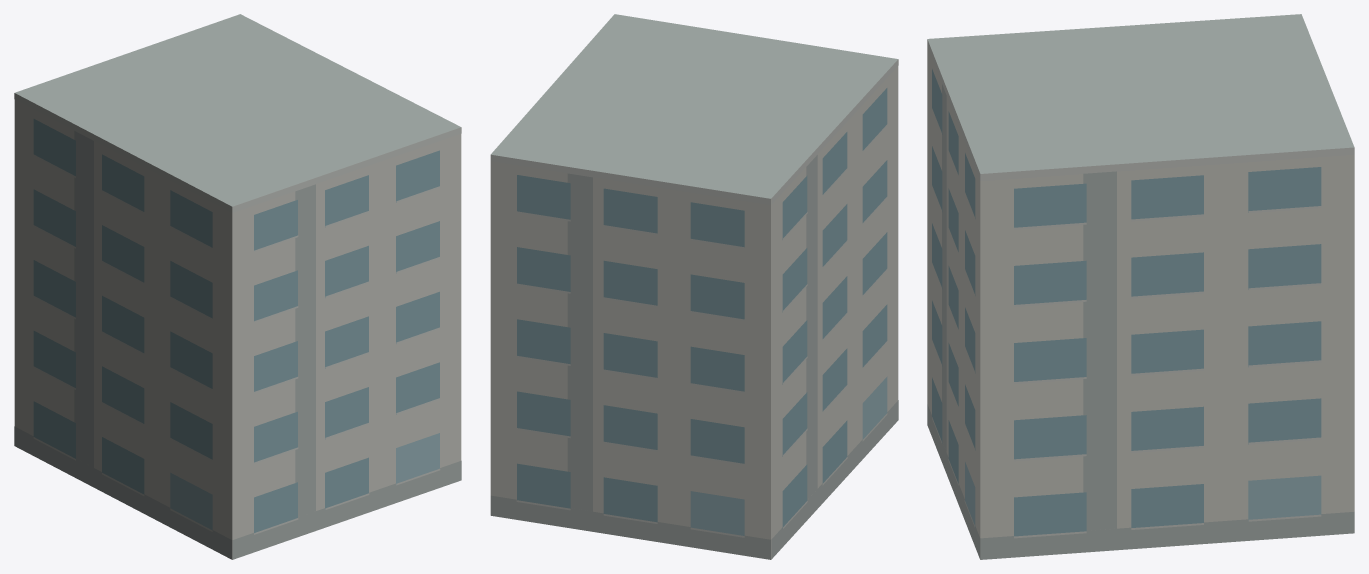
The model's file is survey-upis-33010347.glb.
3 views of the same model, side by side, from view 1: azimuth 30°, elevation 25°; view 2: azimuth 150°, elevation 25°; view 3: azimuth 270°, elevation 25° (orthographic). The views are drawn at different scales.
Visible parts, largest first — view 1: survey-upis-33010347.tmp; view 2: survey-upis-33010347.tmp; view 3: survey-upis-33010347.tmp.
Boxes of the visible parts, box(x1,y1,x2,y2) form: survey-upis-33010347.tmp: box(14, 14, 461, 559); survey-upis-33010347.tmp: box(490, 14, 898, 559); survey-upis-33010347.tmp: box(927, 14, 1354, 559).
Bounding box in the file's own units: 11.75 × 13.2 × 13.26.
